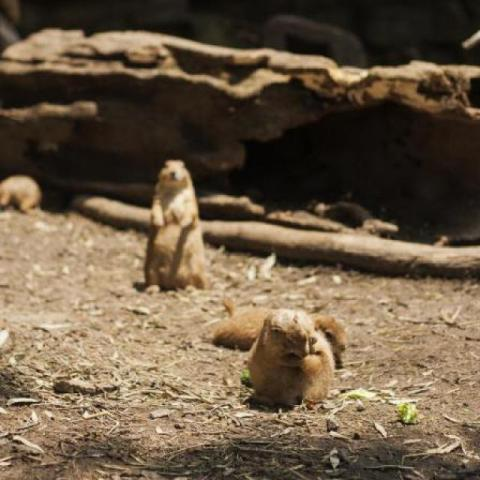small_animal: (210, 301, 348, 409), (139, 159, 212, 293), (0, 176, 47, 216)
